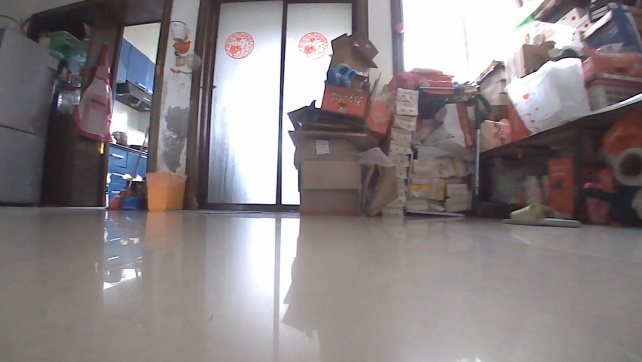cupboard1: (107, 140, 149, 204)
refrigerator: (0, 25, 64, 206)
slipper: (500, 200, 580, 229)
